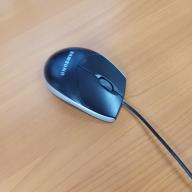mouse: (42, 44, 128, 126)
